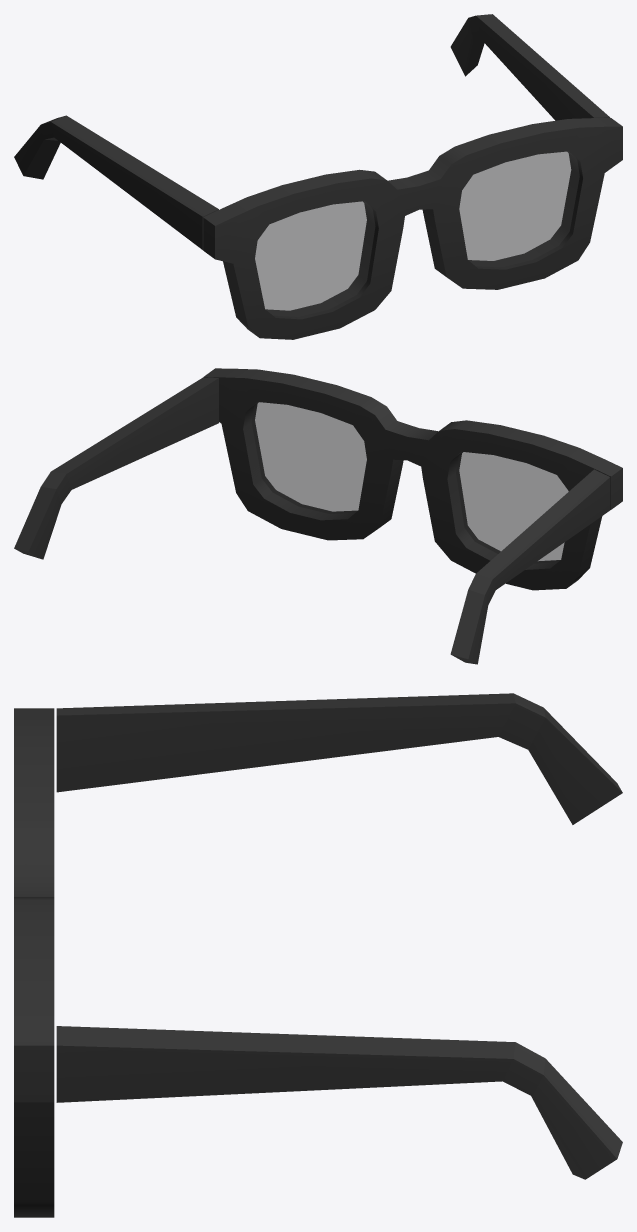
Rendered from Eyewear_1.fbx.
The picture shows the model from 3 angles, top to bottom: view 1: azimuth 30°, elevation 25°; view 2: azimuth 150°, elevation 25°; view 3: azimuth 270°, elevation 25°; orthographic projection. The views are drawn at different scales.
Visible parts, largest first — view 1: Eyewear_1; view 2: Eyewear_1; view 3: Eyewear_1.
Boxes of the visible parts, bbox=[...] form: Eyewear_1: bbox=[14, 14, 622, 339]; Eyewear_1: bbox=[14, 368, 622, 664]; Eyewear_1: bbox=[14, 693, 622, 1217].
Bounding box in the file's own units: 55 × 16.87 × 37.64.
